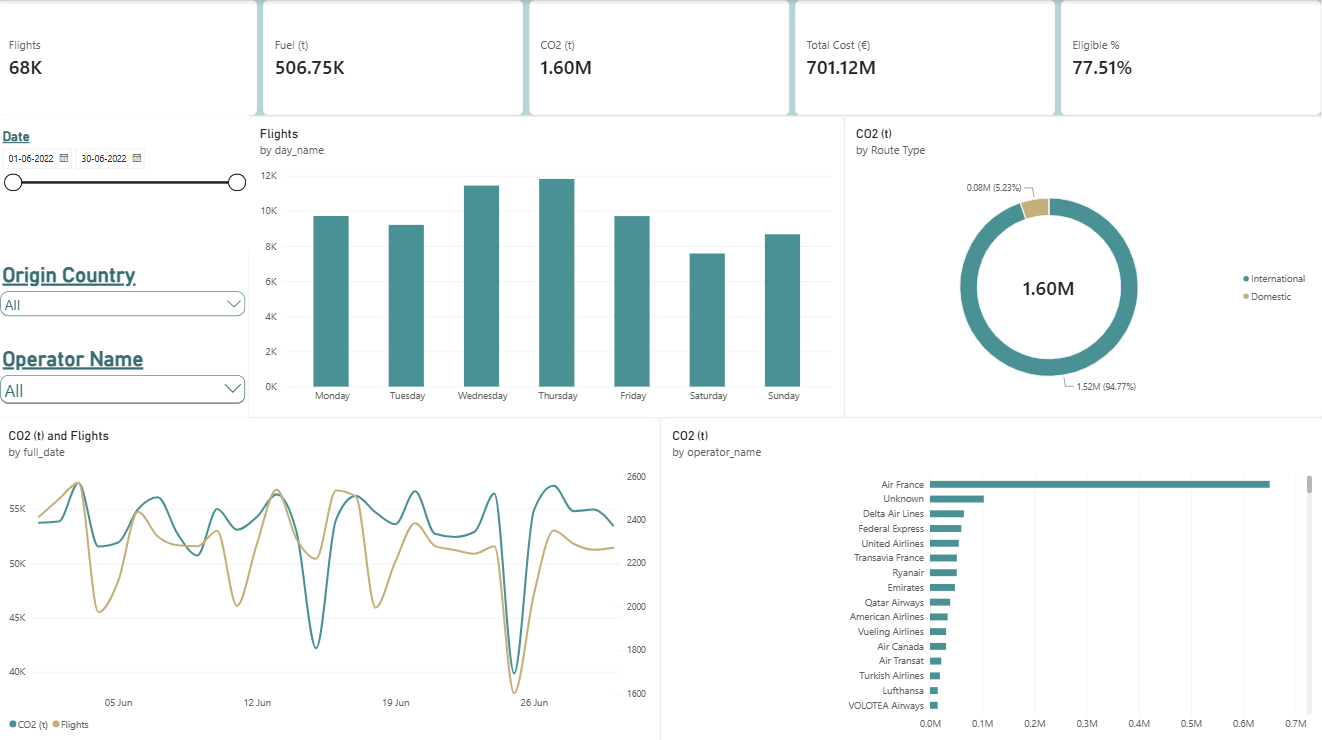

The page's visual inventory and layout, read from the dashboard file:
{"tool":"powerbi","page":{"name":"Overview","canvas":[1920,1080],"ordinal":0},"visuals":[{"type":"cardVisual","fields":{"Data":["_Measures.Flights","_Measures.Fuel (t)","_Measures.CO2 (t)","_Measures.Total Cost (€)","_Measures.Eligible %"]},"box":[0,0,1920.4,167.8],"z":0},{"type":"lineChart","fields":{"Category":["dim_date.full_date"],"Y":["_Measures.CO2 (t)"],"Y2":["_Measures.Flights"]},"box":[0,604.4,960.2,475],"z":1000},{"type":"donutChart","fields":{"Category":["v_flight_kpi.Route Type"],"Y":["_Measures.CO2 (t)"]},"box":[1227,167.8,693.4,436.6],"z":2000},{"type":"clusteredColumnChart","fields":{"Category":["dim_date.day_name"],"Y":["_Measures.Flights"]},"box":[363.9,167.8,863.2,436.6],"z":3000},{"type":"clusteredBarChart","fields":{"Category":["v_flight_kpi.operator_name"],"Y":["_Measures.CO2 (t)"]},"box":[960.2,604.4,960.2,475],"z":4000},{"type":"slicer","fields":{"Values":["v_flight_kpi.operator_name"]},"box":[0,481.1,363.9,123.3],"z":5000},{"type":"slicer","fields":{"Values":["v_flight_kpi.origin_country"]},"box":[0,359.8,363.9,121.3],"z":6000},{"type":"slicer","fields":{"Values":["dim_date.full_date"]},"box":[0,165.8,363.9,194.1],"z":6001}]}

Visuals, with their boxes in screenshot pixels (x1, y1, x2, y2), scaled from the page's 1920x1080 canvas onto the 1322x740 screenshot:
cardVisual - _Measures.Flights x _Measures.Fuel (t): rect(0, 0, 1321, 115)
lineChart - dim_date.full_date x _Measures.CO2 (t): rect(0, 414, 661, 739)
donutChart - v_flight_kpi.Route Type x _Measures.CO2 (t): rect(845, 115, 1321, 414)
clusteredColumnChart - dim_date.day_name x _Measures.Flights: rect(251, 115, 845, 414)
clusteredBarChart - v_flight_kpi.operator_name x _Measures.CO2 (t): rect(661, 414, 1321, 739)
slicer - v_flight_kpi.operator_name: rect(0, 330, 251, 414)
slicer - v_flight_kpi.origin_country: rect(0, 247, 251, 330)
slicer - dim_date.full_date: rect(0, 114, 251, 247)
